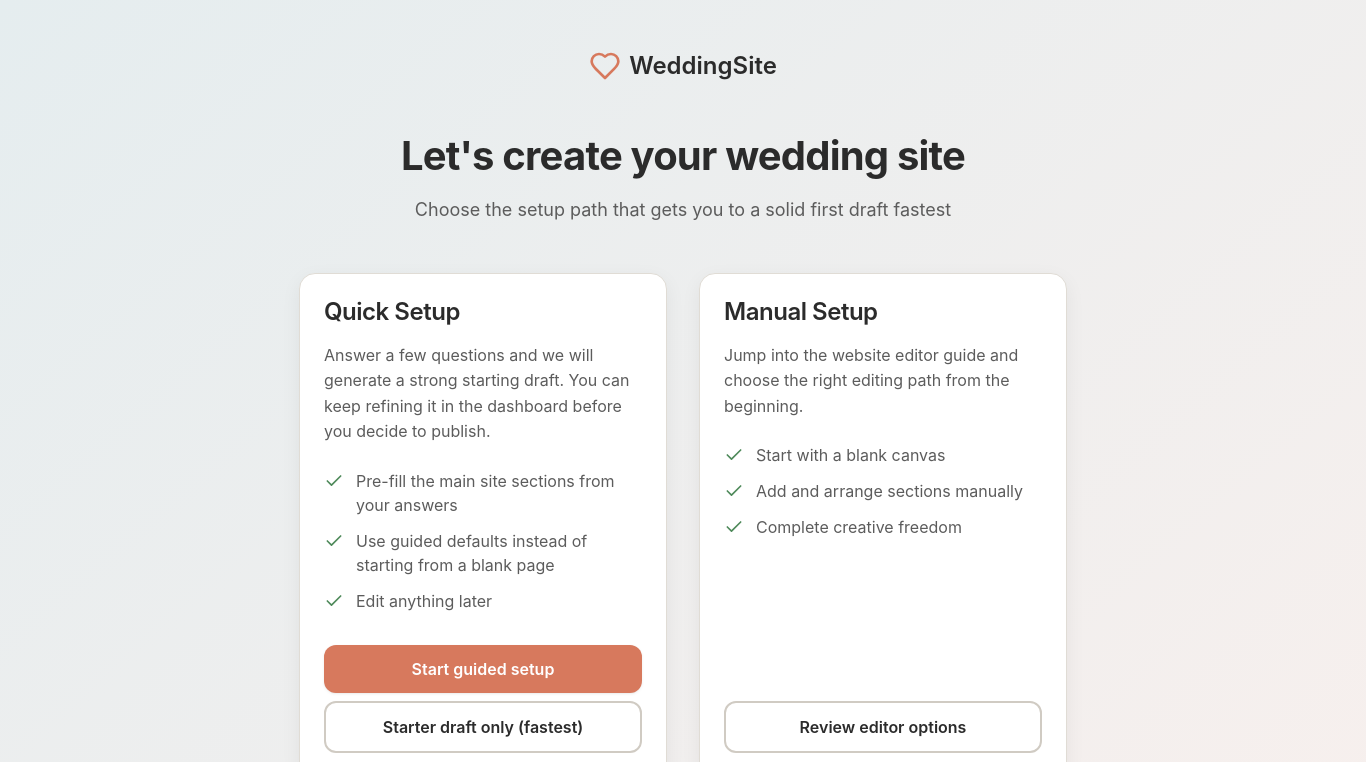
Test: Onboarding starter draft wording truth › keeps draft-progress copy framed as shaping, not already-live launch state
The image size is (1366, 762).
Click the button "Start guided setup" at (483, 669), box [324,645,642,693]
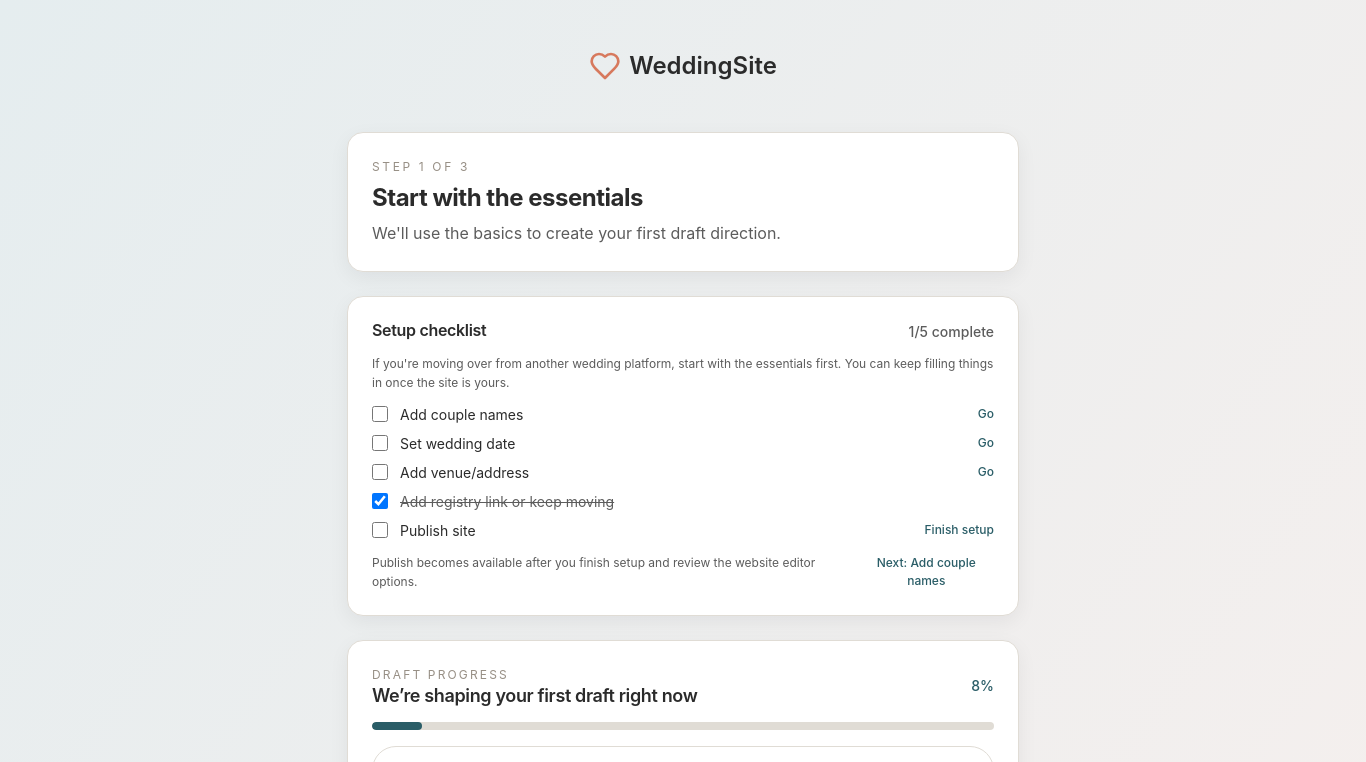
Expected: the heading "We’re shaping your first draft right now" is shown, [372,684,697,706]
